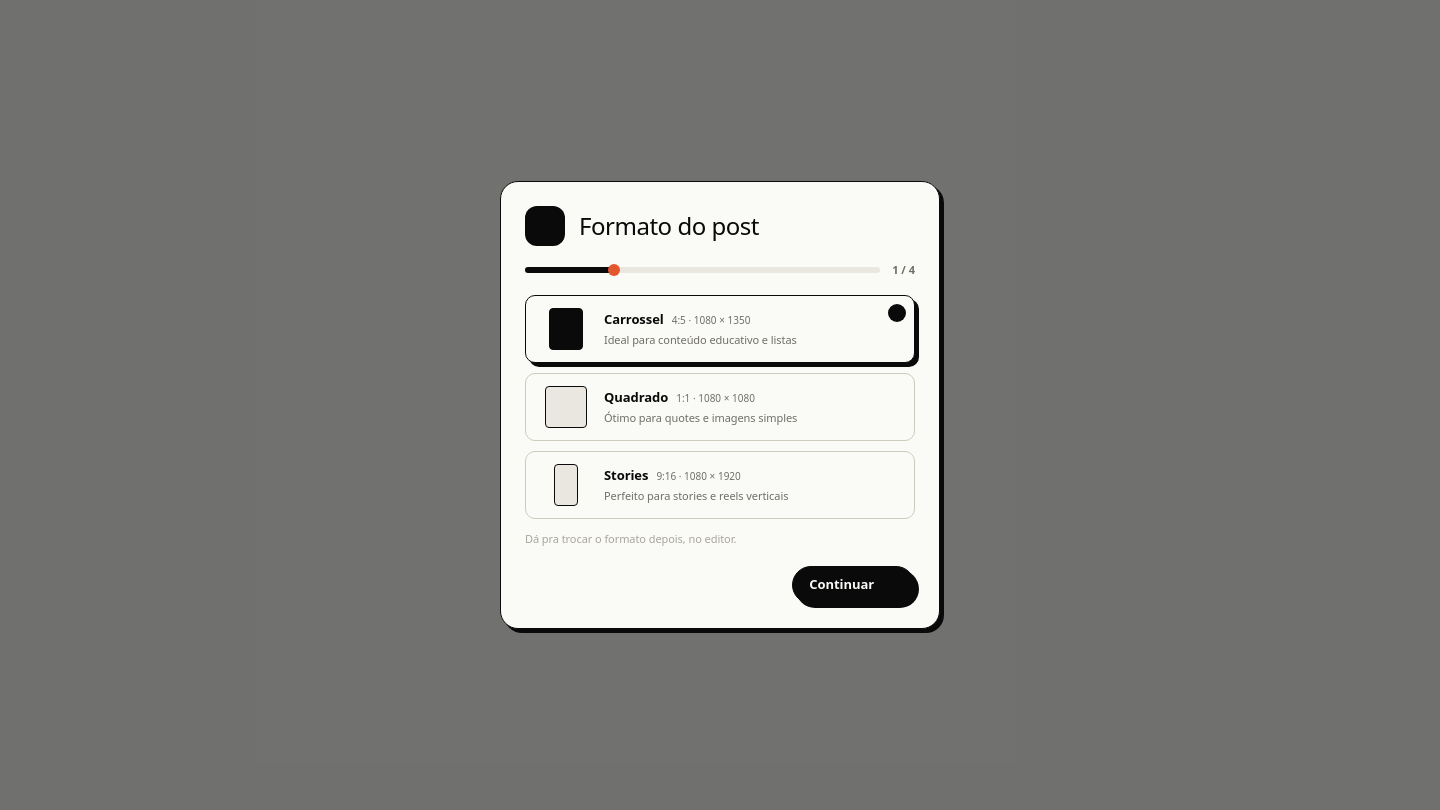
Test: TEMPLATE 2 no wizard › escolher o Template 2 MANTÉM o controle de quantidade
Click the button "Continuar" at {"x": 854, "y": 585}, box [792,566,915,604]
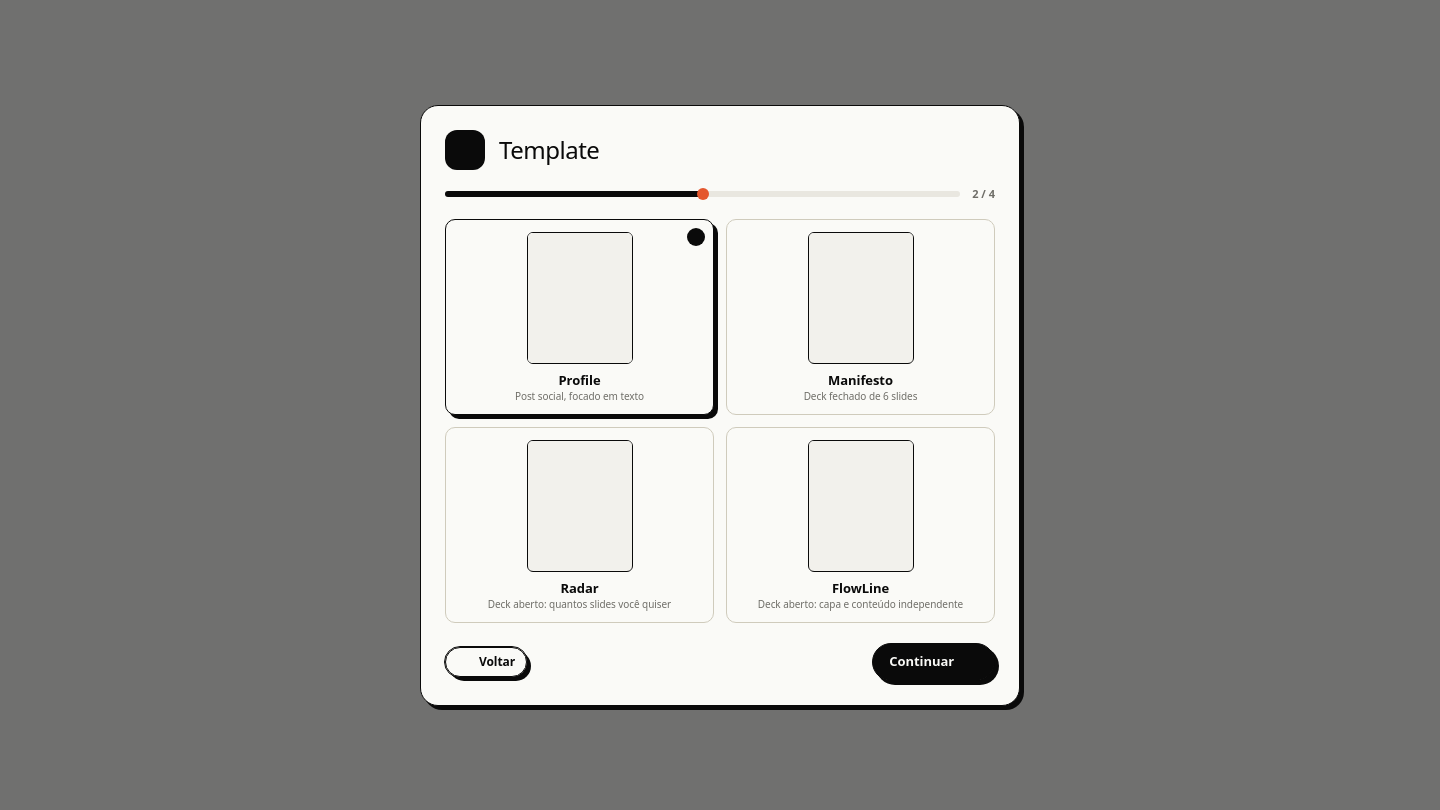
Click the text "Radar" at {"x": 580, "y": 587}, box [560,578,599,596]
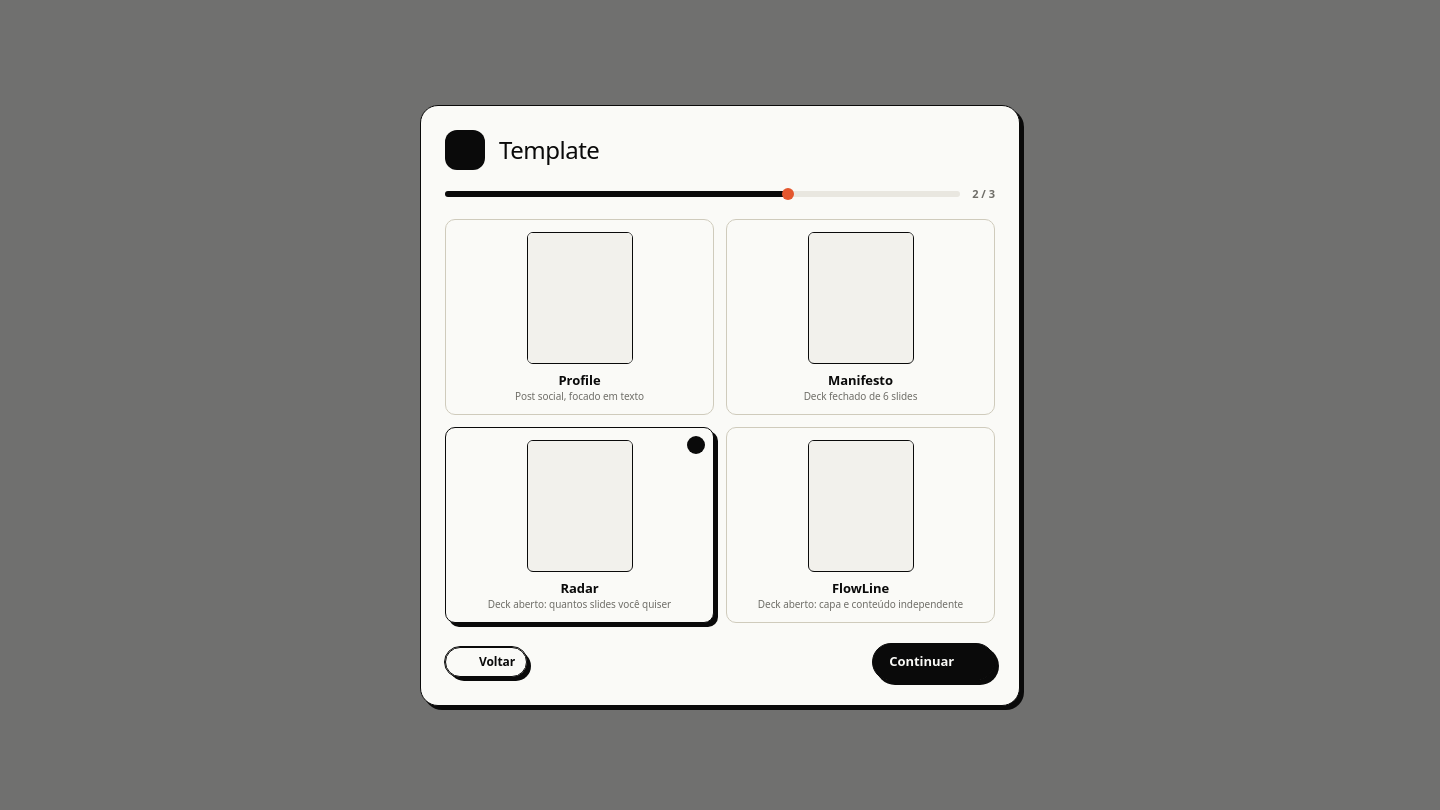
Click the button "Continuar" at {"x": 934, "y": 661}, box [872,642,995,680]
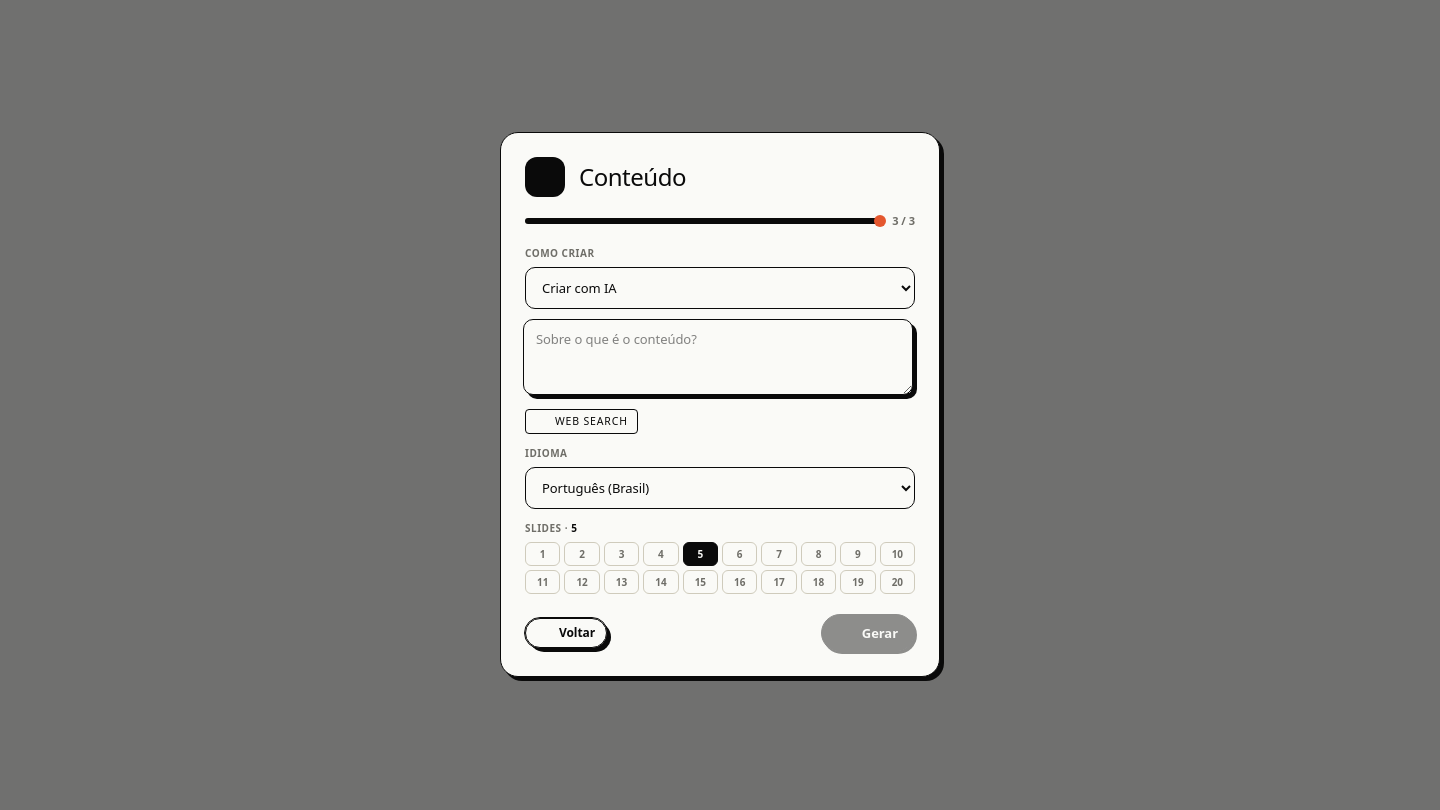
Expected: the element named "Número de slides" is shown, [525,543,915,595]
Expected: the button "5" is shown, [683,543,718,567]
